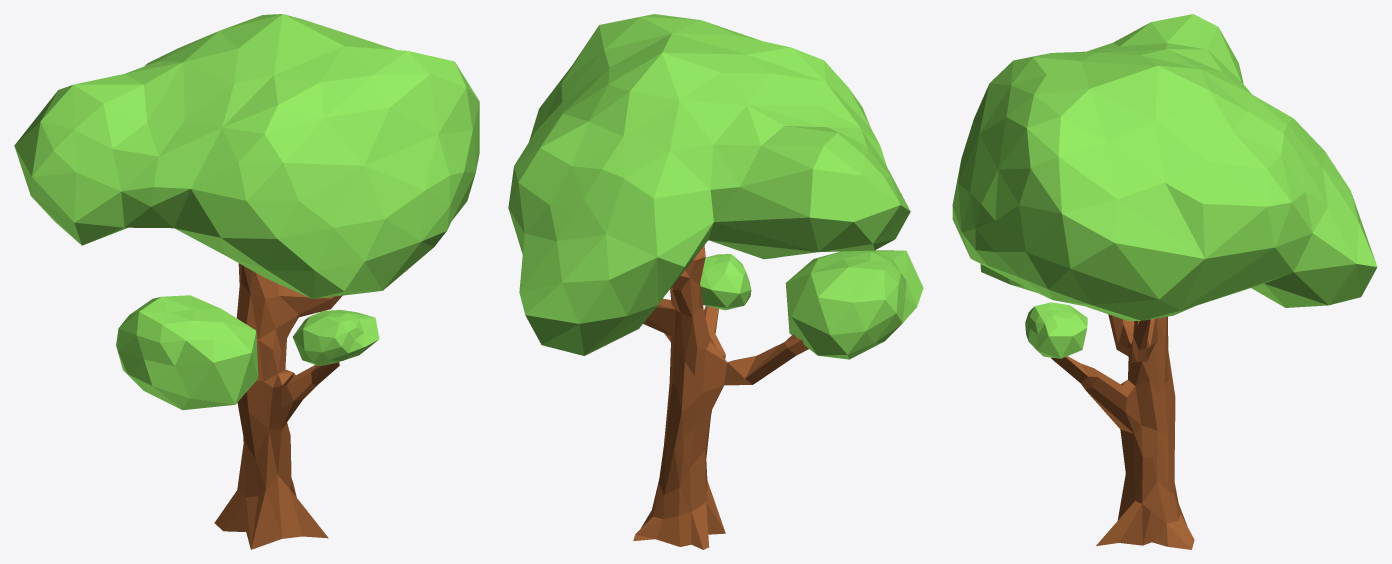
File: Oak1.fbx
3 views of the same model, side by side, from view 1: azimuth 30°, elevation 25°; view 2: azimuth 150°, elevation 25°; view 3: azimuth 270°, elevation 25° (orthographic). The views are drawn at different scales.
Parts seen in each view (by area): view 1: Oak1; view 2: Oak1; view 3: Oak1.
Part boxes in pixels (left/top/right/bottom): Oak1: left=14, top=14, right=479, bottom=549; Oak1: left=508, top=14, right=923, bottom=549; Oak1: left=952, top=14, right=1377, bottom=549.
Bounding box in the file's own units: 6413 × 7726 × 6181.
